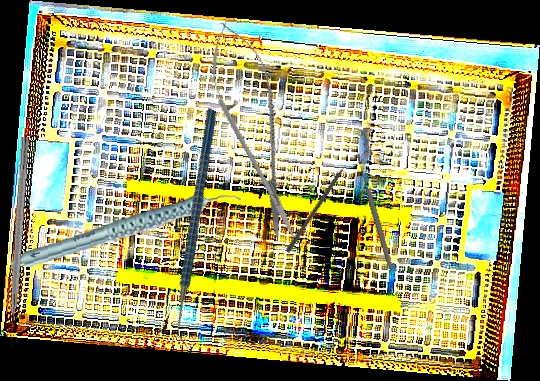Chopper: (103, 107, 295, 352)
Handpiece: (7, 191, 245, 272)
Hook Surgical: (4, 136, 31, 349)
Micro Scissor: (195, 13, 315, 250)
Pusher: (285, 154, 355, 254)
Surgical Spoon: (354, 152, 395, 271)
